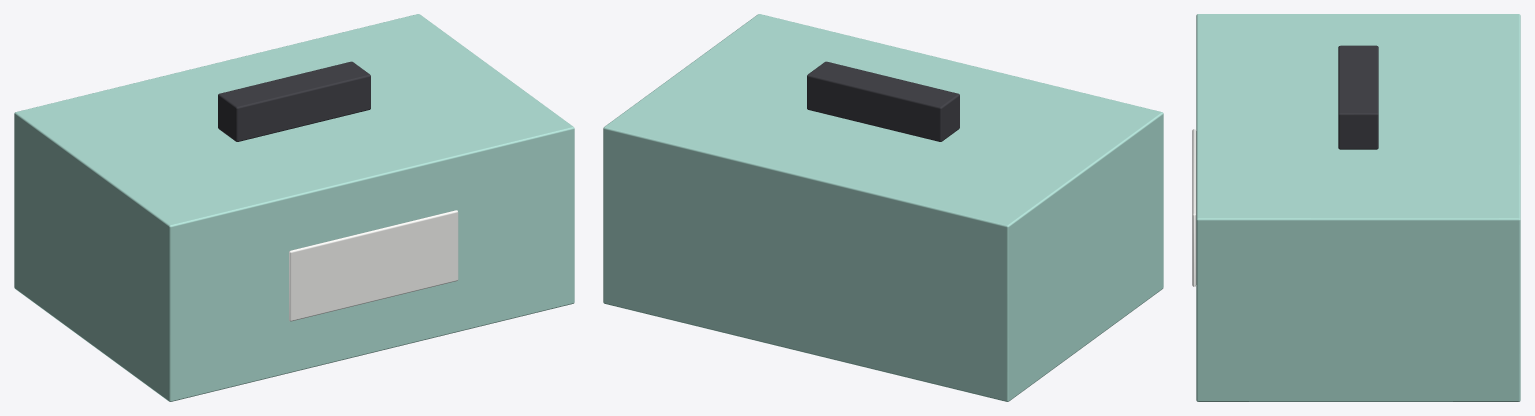
Rendered from SM_LunchBox.fbx.
3 views of the same model, side by side, from view 1: azimuth 30°, elevation 25°; view 2: azimuth 150°, elevation 25°; view 3: azimuth 270°, elevation 25° (orthographic). The views are drawn at different scales.
Parts seen in each view (by area): view 1: SM_LunchBox; view 2: SM_LunchBox; view 3: SM_LunchBox.
Part boxes in pixels (<box>): SM_LunchBox: <box>14,14,574,401</box>; SM_LunchBox: <box>603,14,1163,401</box>; SM_LunchBox: <box>1192,14,1520,401</box>.
Bounding box in the file's own units: 0.24 × 0.12 × 0.162.
